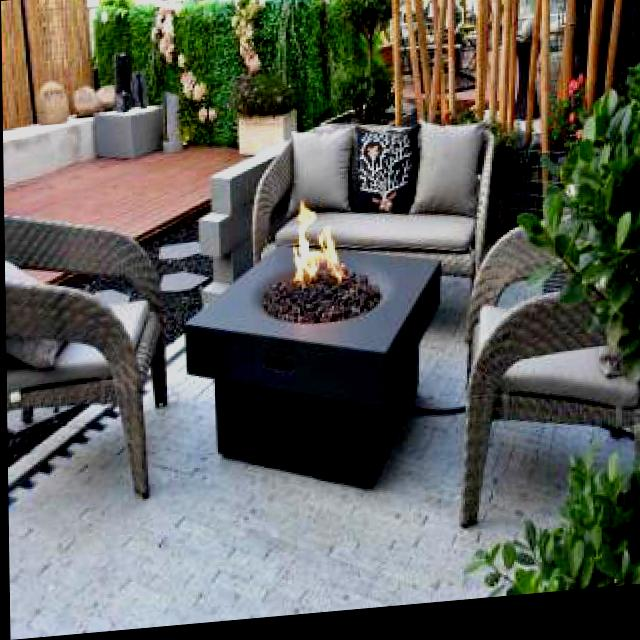helmet: (285, 201, 338, 300)
